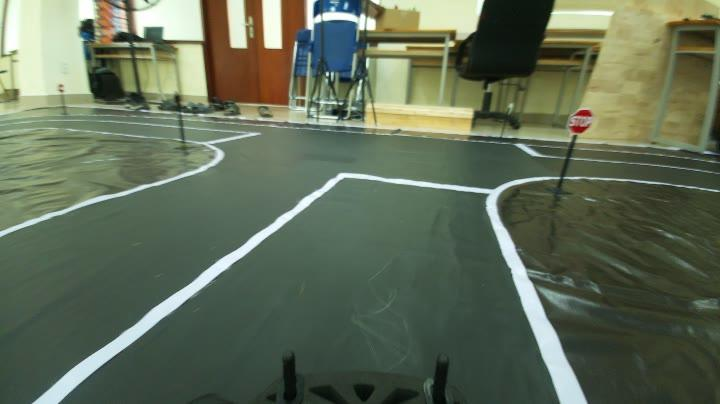stop: (566, 101, 596, 140)
